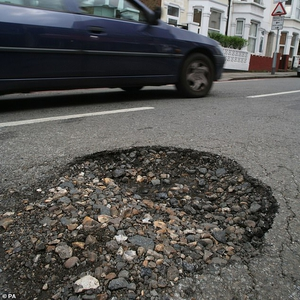pothole: (56, 138, 284, 293)
